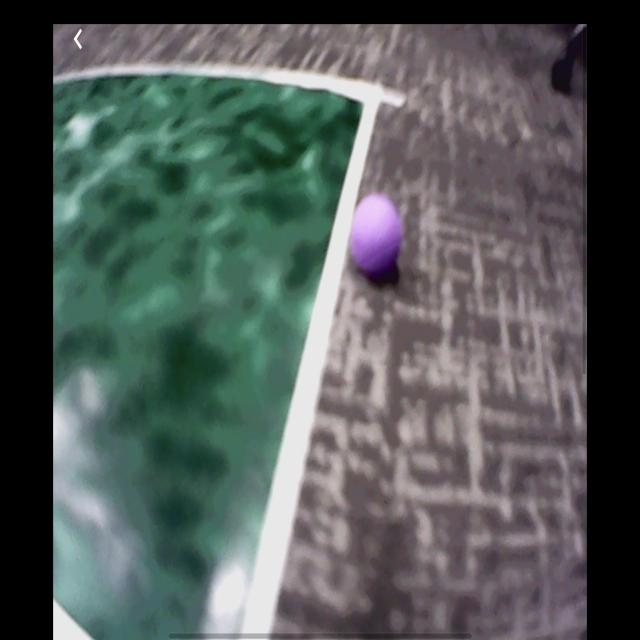ball: (349, 192, 404, 280)
